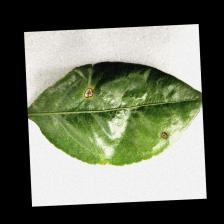canker: (81, 84, 172, 142)
